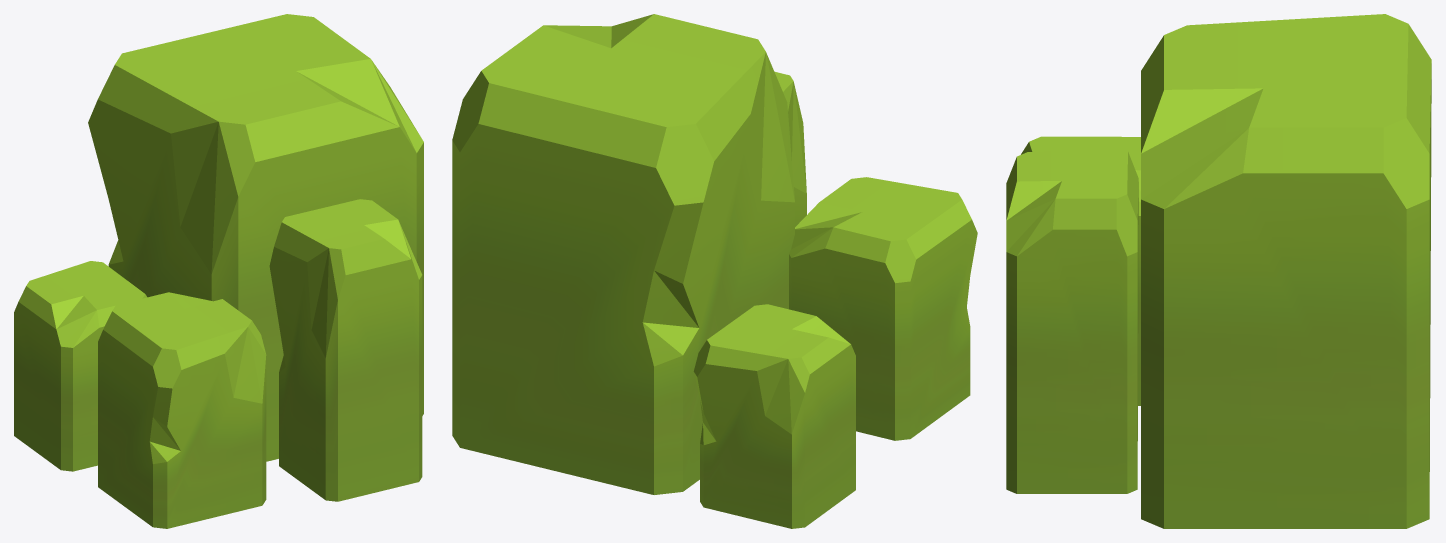
File: RockS_6.obj
3 views of the same model, side by side, from view 1: azimuth 30°, elevation 25°; view 2: azimuth 150°, elevation 25°; view 3: azimuth 270°, elevation 25° (orthographic). The views are drawn at different scales.
Visible parts, largest first — view 1: Cube.089; view 2: Cube.089; view 3: Cube.089.
Part boxes in pixels (<box>): Cube.089: <box>14,14,423,528</box>; Cube.089: <box>452,14,977,528</box>; Cube.089: <box>1006,14,1431,528</box>.
Size of the model in its own units: 0.9726 by 0.9971 by 0.9417.
